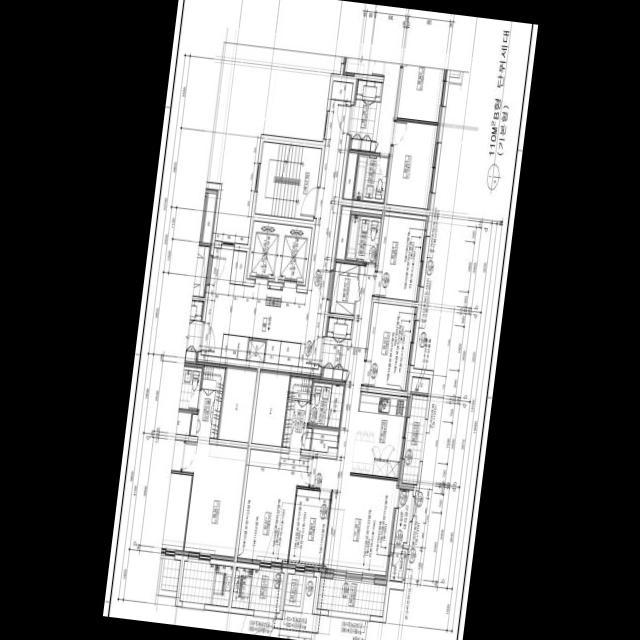background: (102, 0, 538, 640)
space_balconi: (316, 577, 386, 615), (231, 566, 284, 612), (401, 394, 427, 483), (284, 573, 303, 605)
space_bedroom: (236, 448, 312, 566), (363, 301, 417, 390), (374, 215, 428, 301), (288, 488, 331, 571)
space_dressroom: (282, 375, 312, 449)
space_elevator: (276, 224, 312, 285), (247, 220, 283, 281)
space_elevator_hall: (201, 99, 350, 368)
space_front: (320, 316, 352, 381)
space_kitchen: (351, 391, 409, 477)
space_living_room: (310, 265, 399, 579)
space_other: (251, 369, 290, 446), (335, 205, 382, 259), (328, 261, 359, 314), (394, 488, 413, 542), (221, 334, 248, 359), (311, 428, 338, 451), (278, 341, 301, 365), (230, 250, 246, 284), (331, 80, 353, 100), (247, 339, 265, 361), (264, 339, 280, 363), (410, 376, 429, 393)
space_outdoor_room: (390, 547, 406, 580)
space_staircase: (255, 141, 321, 220)
space_toilet: (346, 214, 381, 262), (308, 382, 343, 427)
